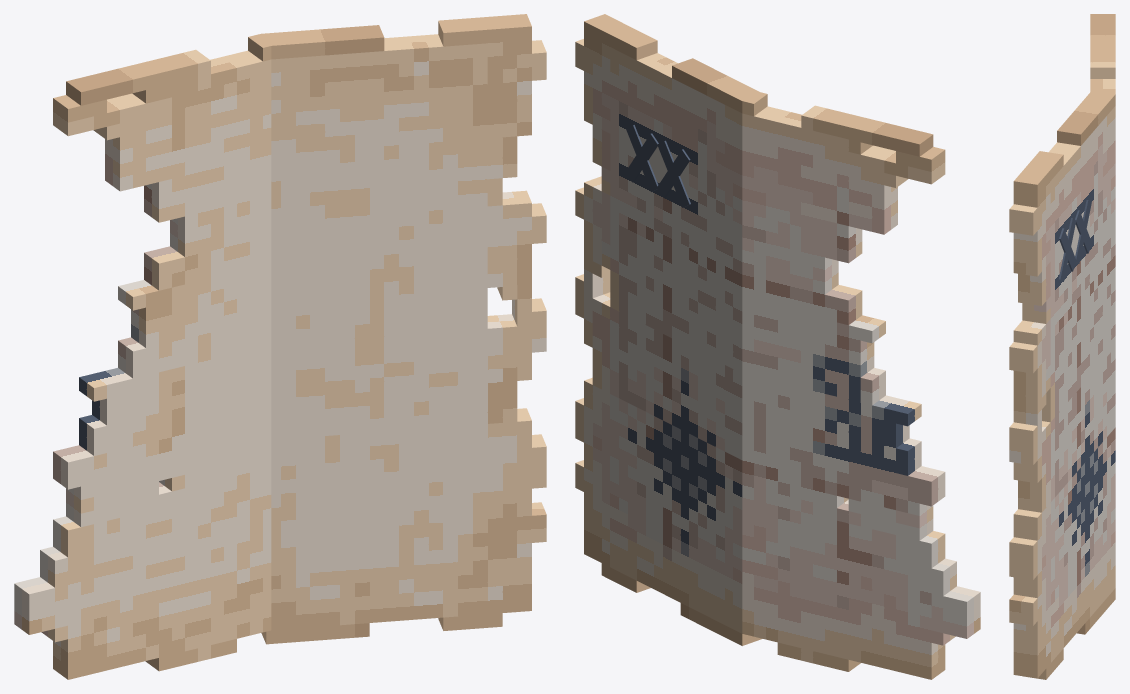
3 renders of one model, left to right at view 1: azimuth 30°, elevation 25°; view 2: azimuth 150°, elevation 25°; view 3: azimuth 270°, elevation 25°, orthographic. The views are drawn at different scales.
Parts seen in each view (by area): view 1: MapRight$$(2)-Local, MapCenter$$(2)-Local; view 2: MapCenter$$(2)-Local, MapRight$$(2)-Local, V01$$(1)-Local, V01-Local; view 3: MapRight$$(2)-Local, MapCenter$$(2)-Local, V01-Local, V01$$(1)-Local, V02-Local, V02$$(1)-Local.
Part boxes in pixels (x1,y1,x2,y2): MapRight$$(2)-Local: [261, 14, 546, 644]; MapCenter$$(2)-Local: [14, 34, 271, 679]; MapCenter$$(2)-Local: [742, 92, 980, 679]; MapRight$$(2)-Local: [575, 14, 762, 645]; V01$$(1)-Local: [657, 140, 690, 207]; V01-Local: [626, 125, 658, 191]; MapRight$$(2)-Local: [1009, 90, 1115, 679]; MapCenter$$(2)-Local: [1090, 14, 1115, 94]; V01-Local: [1059, 228, 1076, 271]; V01$$(1)-Local: [1075, 210, 1091, 253]; V02-Local: [1059, 218, 1076, 281]; V02$$(1)-Local: [1075, 200, 1091, 263].
Size of the model in its own units: 36.85 by 44 by 8.38.
Materials: 6 (6 with a texture image).
